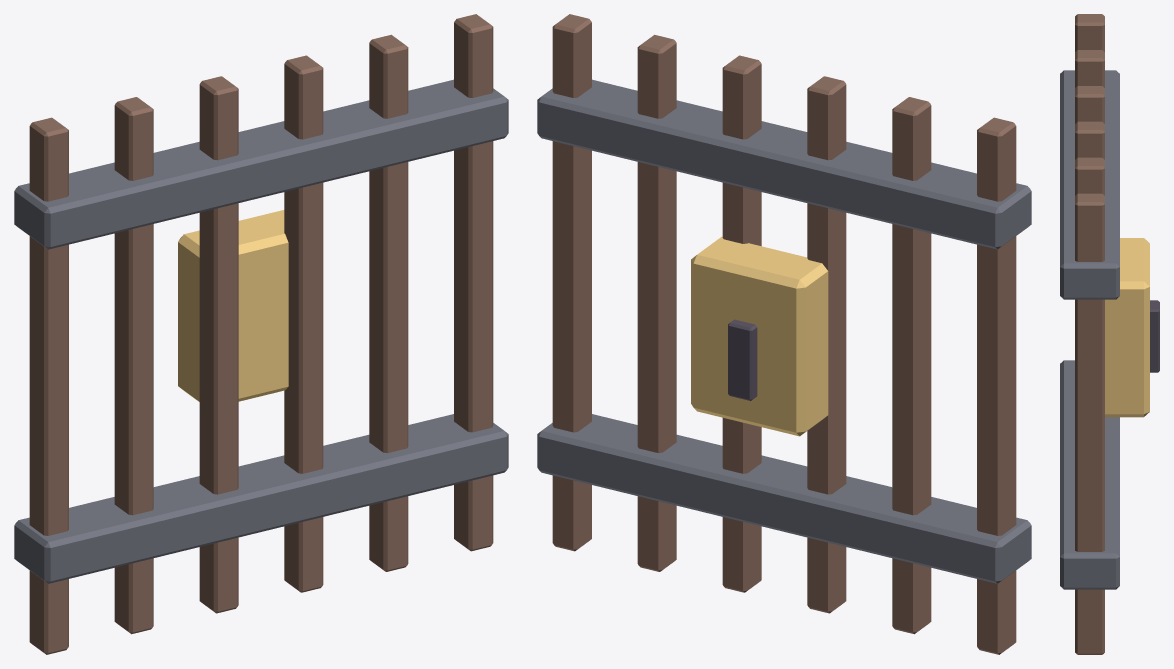
Rendered from locked_crypt_gate.glb.
3 views of the same model, side by side, from view 1: azimuth 30°, elevation 25°; view 2: azimuth 150°, elevation 25°; view 3: azimuth 270°, elevation 25° (orthographic). The views are drawn at different scales.
Bounding box in the file's own units: 0.93 × 1 × 0.2.
